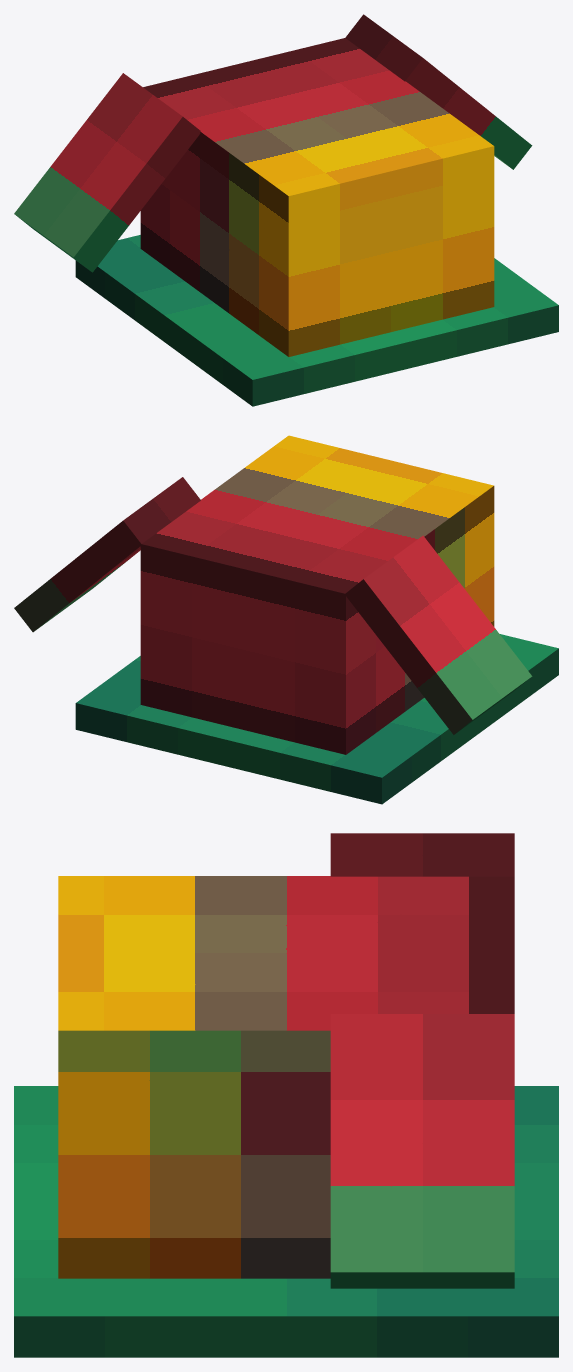
File: sl_sniffer_hat.glb
3 renders of one model, top to bottom at view 1: azimuth 30°, elevation 25°; view 2: azimuth 150°, elevation 25°; view 3: azimuth 270°, elevation 25°, orthographic. The views are drawn at different scales.
Visible parts, largest first — view 1: bb_sniffer_hat; view 2: bb_sniffer_hat; view 3: bb_sniffer_hat.
Boxes of the visible parts, <box> form: bb_sniffer_hat: <box>14,14,558,406</box>; bb_sniffer_hat: <box>14,435,558,804</box>; bb_sniffer_hat: <box>14,833,558,1357</box>.
Size of the model in its own units: 1.12 by 0.4839 by 0.75.
Materials: 1 (1 with a texture image).
